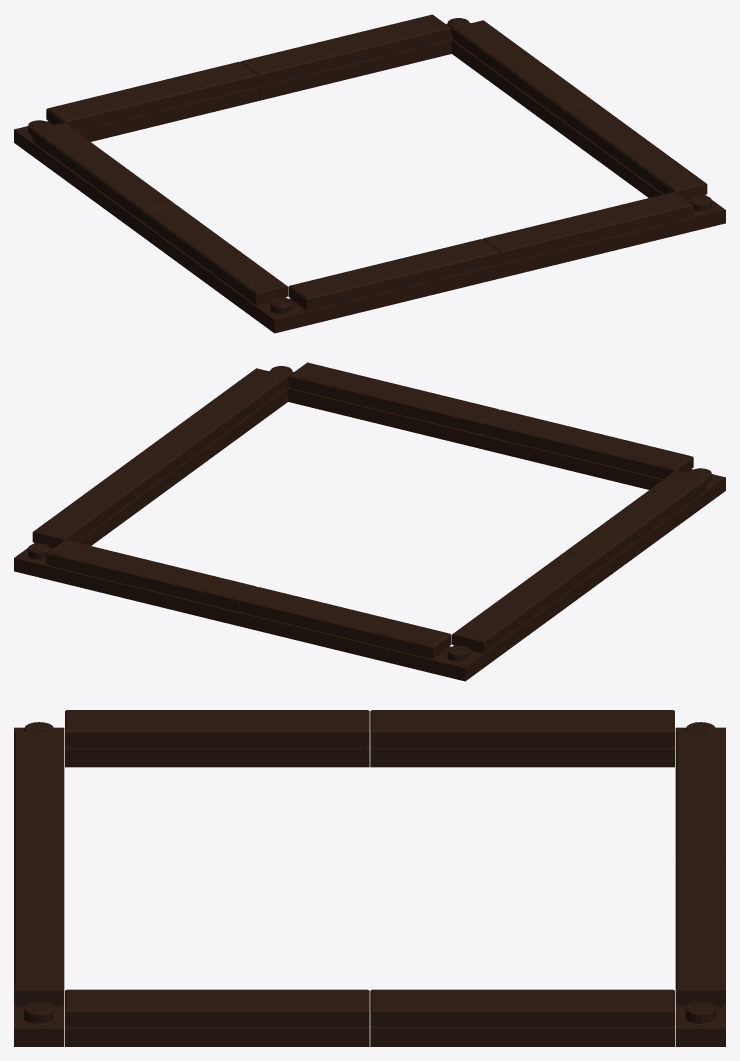
The model's file is frame.obj.
3 renders of one model, top to bottom at view 1: azimuth 30°, elevation 25°; view 2: azimuth 150°, elevation 25°; view 3: azimuth 270°, elevation 25°, orthographic. The views are drawn at different scales.
Parts seen in each view (by area): view 1: Part.5, Part.6, Part.7, Part.8, Part.9, Part.12, Part.10, Part.11, Part.15, Part.16, Part.18, Part.17 (+7 smaller); view 2: Part.6, Part.5, Part.8, Part.7, Part.10, Part.11, Part.9, Part.12, Part.17, Part.18, Part.16, Part.15 (+7 smaller); view 3: Part.11, Part.12, Part.10, Part.9, Part.8, Part.7, Part.5, Part.6, Part.13, Part.14, Part.19, Part.20 (+2 smaller).
Part boxes in pixels (x1=…): Part.5: x1=288, y1=239, x2=499, y2=310; Part.6: x1=46, y1=61, x2=257, y2=131; Part.7: x1=482, y1=191, x2=693, y2=263; Part.8: x1=240, y1=14, x2=451, y2=86; Part.9: x1=144, y1=204, x2=287, y2=305; Part.12: x1=564, y1=102, x2=707, y2=200; Part.10: x1=32, y1=122, x2=175, y2=223; Part.11: x1=452, y1=20, x2=594, y2=121; Part.15: x1=289, y1=264, x2=499, y2=325; Part.16: x1=498, y1=216, x2=693, y2=278; Part.18: x1=256, y1=39, x2=451, y2=100; Part.17: x1=47, y1=86, x2=257, y2=141; Part.6: x1=240, y1=587, x2=451, y2=658; Part.5: x1=482, y1=409, x2=693, y2=479; Part.8: x1=46, y1=539, x2=257, y2=611; Part.7: x1=288, y1=362, x2=499, y2=434; Part.10: x1=452, y1=552, x2=595, y2=653; Part.11: x1=32, y1=450, x2=175, y2=548; Part.9: x1=564, y1=470, x2=707, y2=571; Part.12: x1=145, y1=368, x2=287, y2=469; Part.17: x1=240, y1=612, x2=450, y2=673; Part.18: x1=46, y1=564, x2=241, y2=626; Part.16: x1=288, y1=387, x2=483, y2=448; Part.15: x1=482, y1=434, x2=692, y2=489; Part.11: x1=370, y1=989, x2=674, y2=1027; Part.12: x1=65, y1=989, x2=369, y2=1027; Part.10: x1=370, y1=710, x2=674, y2=747; Part.9: x1=65, y1=710, x2=369, y2=747; Part.8: x1=675, y1=860, x2=725, y2=1005; Part.7: x1=14, y1=860, x2=64, y2=1005; Part.5: x1=14, y1=731, x2=64, y2=861; Part.6: x1=675, y1=731, x2=725, y2=861; Part.13: x1=65, y1=746, x2=369, y2=767; Part.14: x1=370, y1=746, x2=674, y2=767; Part.19: x1=65, y1=1025, x2=369, y2=1046; Part.20: x1=370, y1=1025, x2=674, y2=1046.
Bounding box in the file's own units: 112 × 6.36 × 112.
